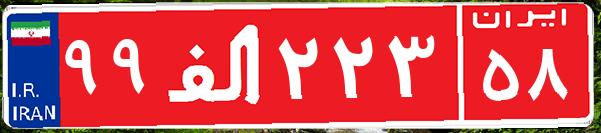2: (273, 28, 330, 110), (330, 28, 385, 110)
3: (385, 28, 445, 110)
5: (475, 38, 525, 113)
8: (525, 38, 570, 115)
9: (57, 26, 110, 107), (110, 28, 158, 105)
الف: (158, 15, 273, 115)
